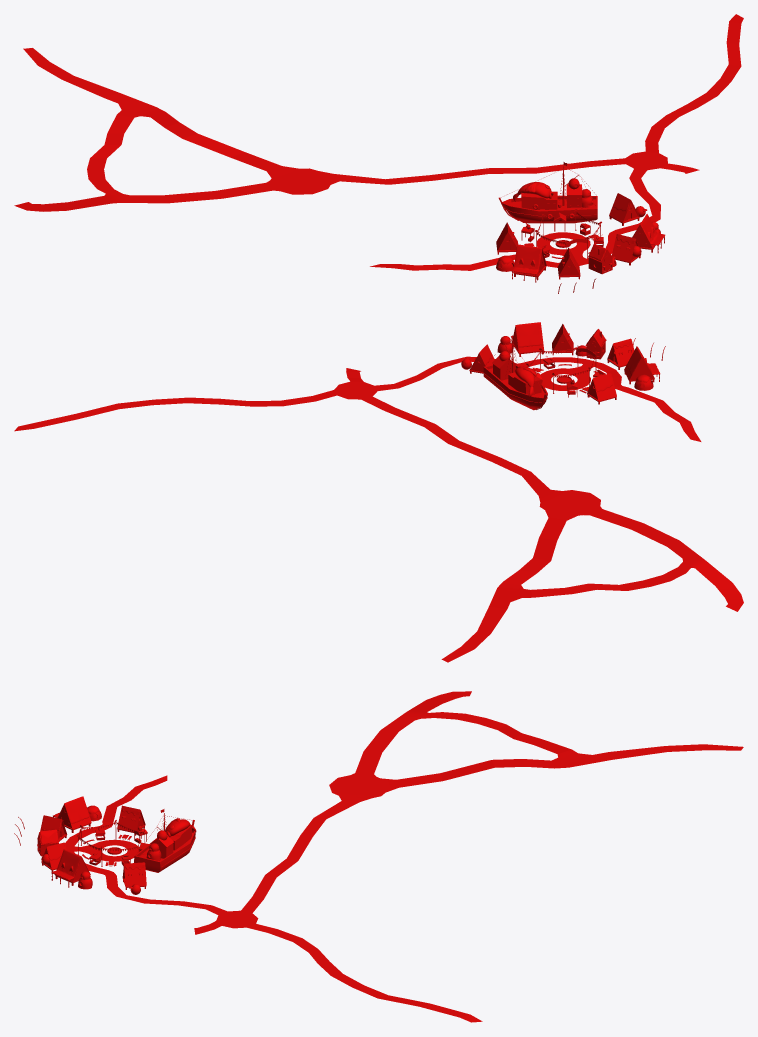
The model's file is Neighborhood_SalmonSettlement_02.glb.
The picture shows the model from 3 angles, top to bottom: view 1: azimuth 30°, elevation 25°; view 2: azimuth 150°, elevation 25°; view 3: azimuth 270°, elevation 25°; orthographic projection. The views are drawn at different scales.
Parts seen in each view (by area): view 1: Object_Road1, Ship_node, Building_TriangleHouse, Building_TriangleHouse5, Building_TriangleHouse6, Building_TriangleHouse3, Building_CoffeeShop, Building_TriangleHouse2; view 2: Object_Road1, Ship_node, Building_TriangleHouse5, Building_TriangleHouse, Building_TriangleHouse4, Building_TriangleHouse2; view 3: Object_Road1, Ship_node, Building_TriangleHouse, Building_TriangleHouse5, Building_TriangleHouse4, Building_TriangleHouse6.
Boxes of the visible parts, x1=… form: Object_Road1: x1=14, y1=14, x2=743, y2=270; Ship_node: x1=498, y1=162, x2=597, y2=223; Building_TriangleHouse: x1=511, y1=244, x2=546, y2=282; Building_TriangleHouse5: x1=632, y1=214, x2=665, y2=253; Building_TriangleHouse6: x1=609, y1=193, x2=639, y2=225; Building_TriangleHouse3: x1=612, y1=234, x2=641, y2=265; Building_CoffeeShop: x1=588, y1=243, x2=613, y2=274; Building_TriangleHouse2: x1=557, y1=247, x2=580, y2=279; Object_Road1: x1=14, y1=356, x2=743, y2=662; Ship_node: x1=483, y1=335, x2=547, y2=410; Building_TriangleHouse5: x1=511, y1=322, x2=544, y2=356; Building_TriangleHouse: x1=624, y1=346, x2=660, y2=384; Building_TriangleHouse4: x1=587, y1=373, x2=616, y2=404; Building_TriangleHouse2: x1=607, y1=338, x2=634, y2=369; Object_Road1: x1=65, y1=691, x2=743, y2=1022; Ship_node: x1=134, y1=809, x2=195, y2=872; Building_TriangleHouse: x1=53, y1=796, x2=91, y2=832; Building_TriangleHouse5: x1=51, y1=849, x2=90, y2=887; Building_TriangleHouse4: x1=117, y1=805, x2=145, y2=835; Building_TriangleHouse6: x1=122, y1=862, x2=146, y2=889.
Bounding box in the file's own units: 190 × 16.7 × 172.
